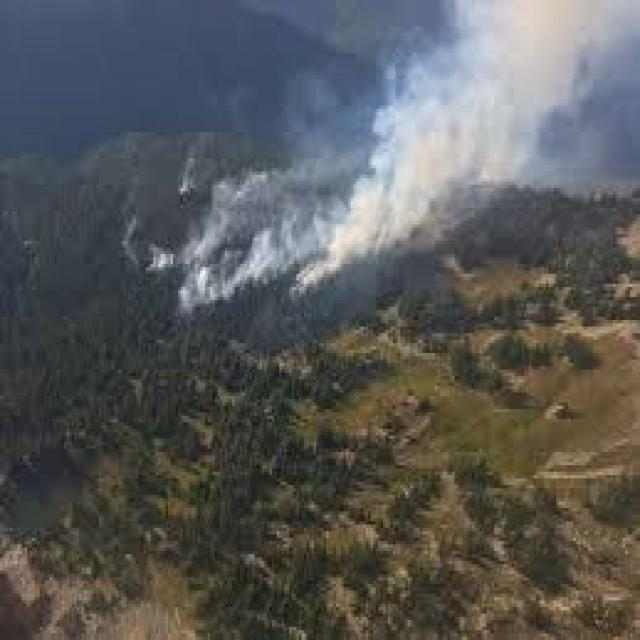Smoke: (113, 1, 640, 331), (303, 0, 572, 306), (146, 108, 522, 303)
